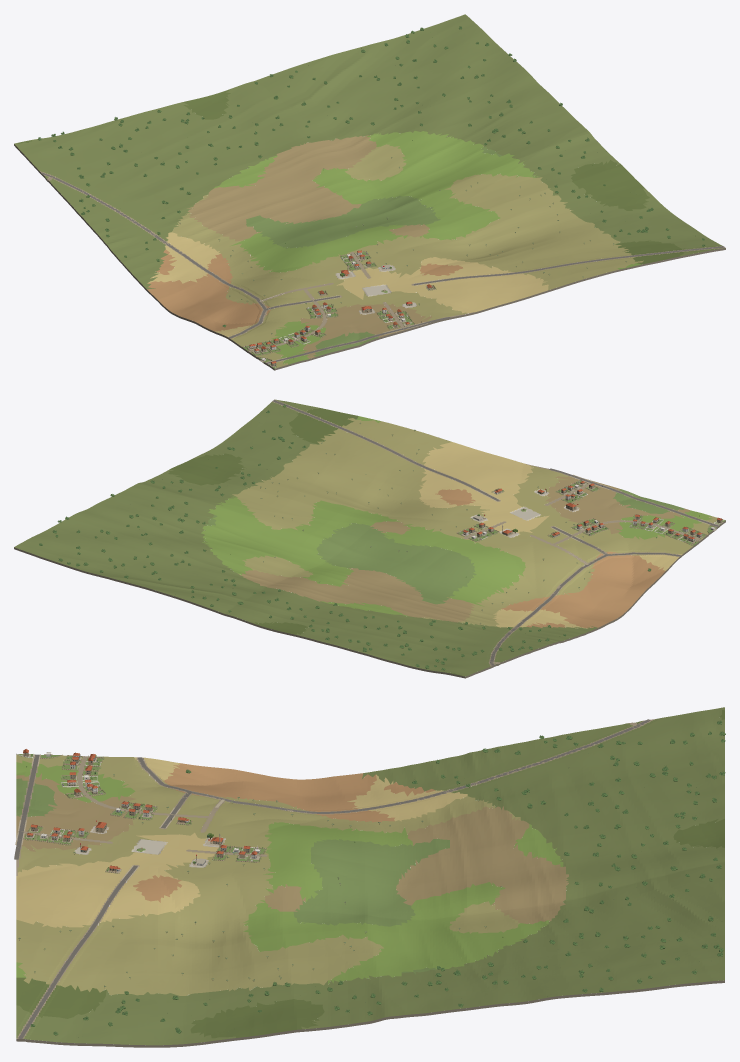
File: parca_+7_-2-yakin.glb
3 renders of one model, top to bottom at view 1: azimuth 30°, elevation 25°; view 2: azimuth 150°, elevation 25°; view 3: azimuth 270°, elevation 25°, orthographic. The views are drawn at different scales.
Parts seen in each view (by area): view 1: parca_+7_-2_arazi, parca_+7_-2_yollar, parca_+7_-2_bitkiler, parca_+7_-2_yapilar, parca_+7_-2_duvarlar; view 2: parca_+7_-2_arazi, parca_+7_-2_bitkiler, parca_+7_-2_yollar, parca_+7_-2_yapilar, parca_+7_-2_duvarlar; view 3: parca_+7_-2_arazi, parca_+7_-2_bitkiler, parca_+7_-2_yollar, parca_+7_-2_yapilar, parca_+7_-2_duvarlar.
Part boxes in pixels (left/top/right/bottom): parca_+7_-2_arazi: left=14, top=14, right=725, bottom=370; parca_+7_-2_yollar: left=41, top=172, right=724, bottom=363; parca_+7_-2_bitkiler: left=38, top=26, right=705, bottom=364; parca_+7_-2_yapilar: left=248, top=250, right=434, bottom=366; parca_+7_-2_duvarlar: left=242, top=251, right=435, bottom=368; parca_+7_-2_arazi: left=14, top=399, right=725, bottom=678; parca_+7_-2_bitkiler: left=39, top=404, right=718, bottom=670; parca_+7_-2_yollar: left=272, top=400, right=718, bottom=665; parca_+7_-2_yapilar: left=461, top=481, right=723, bottom=542; parca_+7_-2_duvarlar: left=457, top=479, right=724, bottom=545; parca_+7_-2_arazi: left=16, top=707, right=724, bottom=1047; parca_+7_-2_bitkiler: left=18, top=720, right=725, bottom=1037; parca_+7_-2_yollar: left=14, top=719, right=650, bottom=1038; parca_+7_-2_yapilar: left=22, top=749, right=260, bottom=872; parca_+7_-2_duvarlar: left=16, top=753, right=266, bottom=873.
Size of the model in its own units: 1007 by 157 by 1005.
